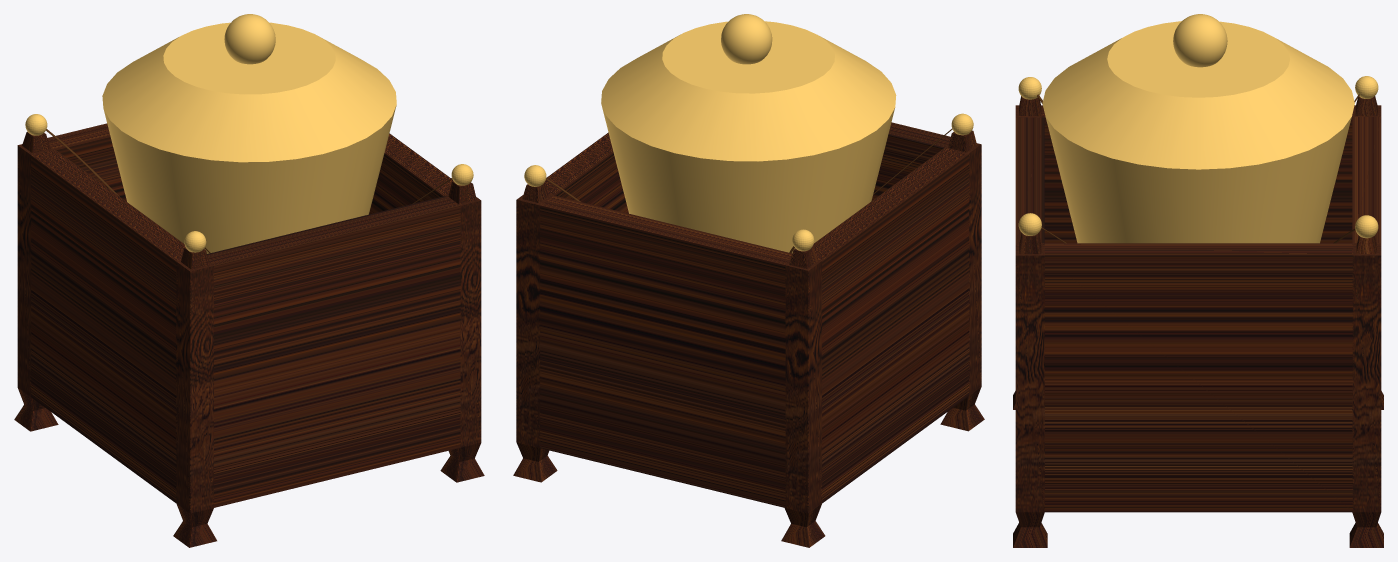
The model's file is jawa_kenong.glb.
The picture shows the model from 3 angles, left to right: view 1: azimuth 30°, elevation 25°; view 2: azimuth 150°, elevation 25°; view 3: azimuth 270°, elevation 25°; orthographic projection. The views are drawn at different scales.
Parts seen in each view (by area): view 1: Cube.003_8, Cylinder_10, Cube.002_6, Cube_0, Cube.001_4, Sphere.004_11; view 2: Cube.001_4, Cylinder_10, Cube.002_6, Cube.003_8, Cube_0, Sphere.004_11; view 3: Cube_0, Cylinder_10, Cube.001_4, Cube.002_6, Cube.003_8, Sphere.004_11.
Boxes of the visible parts, <box> form: Cube.003_8: <box>173,195,460,547</box>; Cylinder_10: <box>102,22,396,253</box>; Cube.002_6: <box>14,131,185,502</box>; Cube_0: <box>369,133,484,482</box>; Cube.001_4: <box>47,123,126,201</box>; Sphere.004_11: <box>224,14,275,64</box>; Cube.001_4: <box>513,183,791,507</box>; Cylinder_10: <box>601,21,896,253</box>; Cube.002_6: <box>781,147,969,547</box>; Cube.003_8: <box>871,122,984,431</box>; Cube_0: <box>544,132,628,213</box>; Sphere.004_11: <box>721,14,772,64</box>; Cube_0: <box>1013,233,1353,547</box>; Cylinder_10: <box>1042,21,1354,243</box>; Cube.001_4: <box>1349,117,1383,547</box>; Cube.002_6: <box>1041,96,1383,409</box>; Cube.003_8: <box>1013,96,1044,409</box>; Sphere.004_11: <box>1173,14,1227,67</box>.
Bounding box in the file's own units: 24.75 × 34.46 × 25.41.
4 materials, 4 textured.
